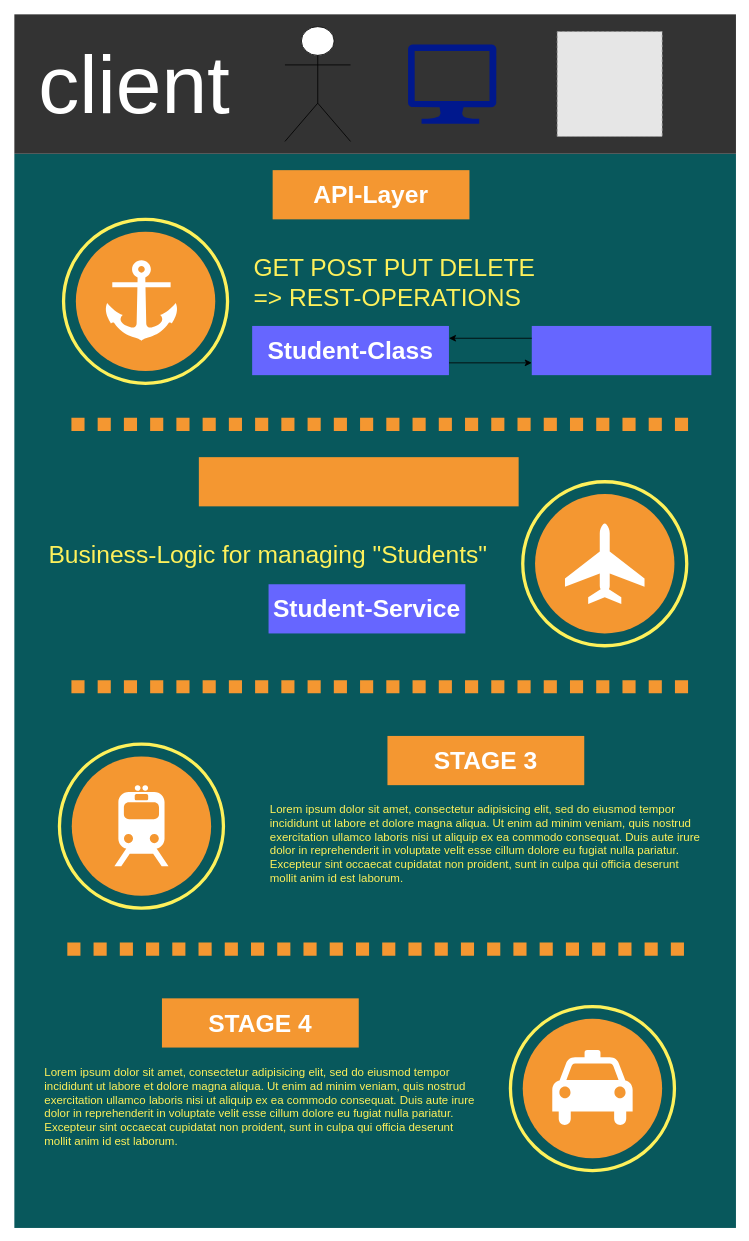
Image size: 749x1241. Some labels were removed from this diagram. Grey dashed boxes stand in for pictures. Each missing label, with the centre of its shape:
"Service/Business Layer" goes at pixel 358 481.
"Student-Controller" goes at pixel 621 350.
